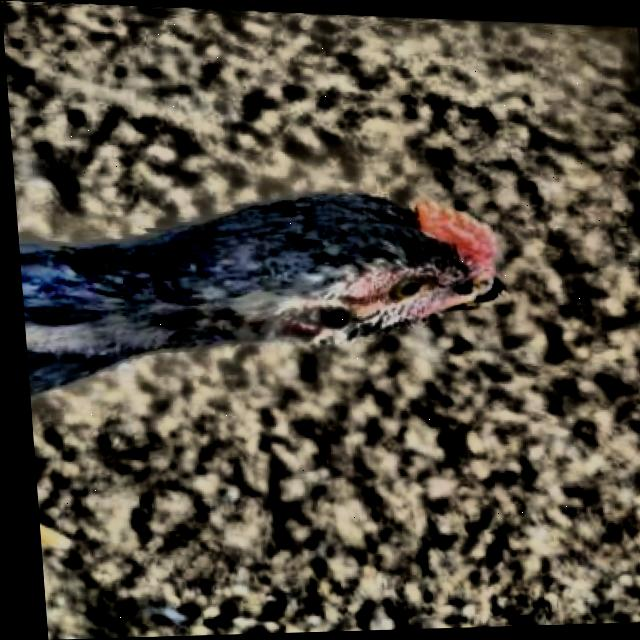Healthy: (374, 269, 445, 312)
